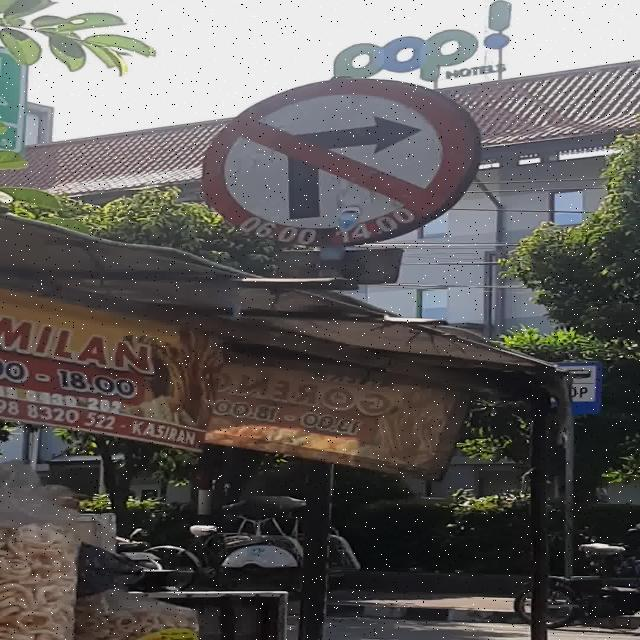Dilarang Belok Kanan: (201, 78, 480, 246)
